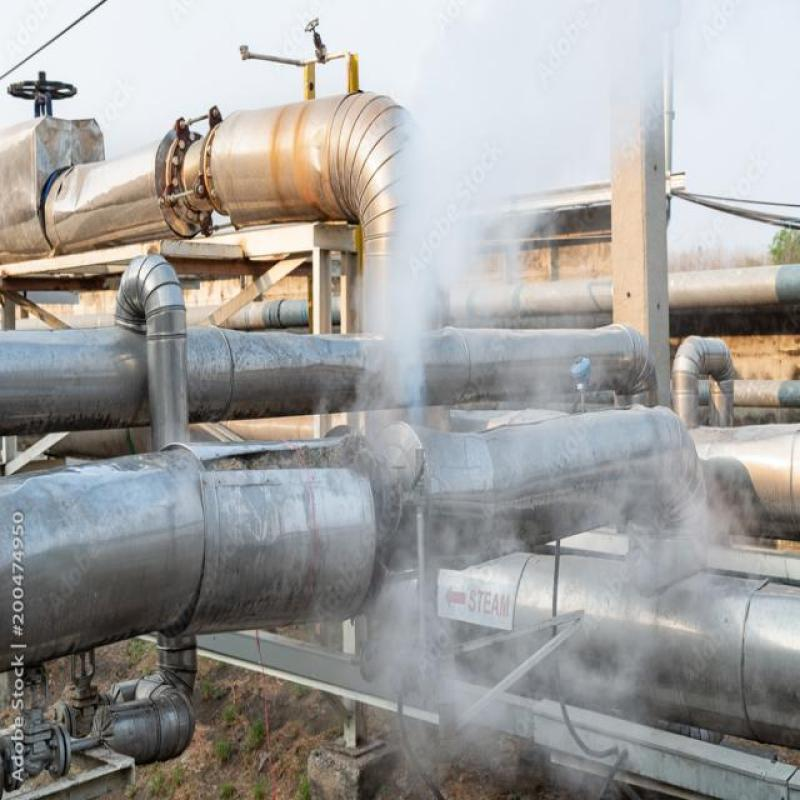Fracture: (323, 404, 450, 573)
